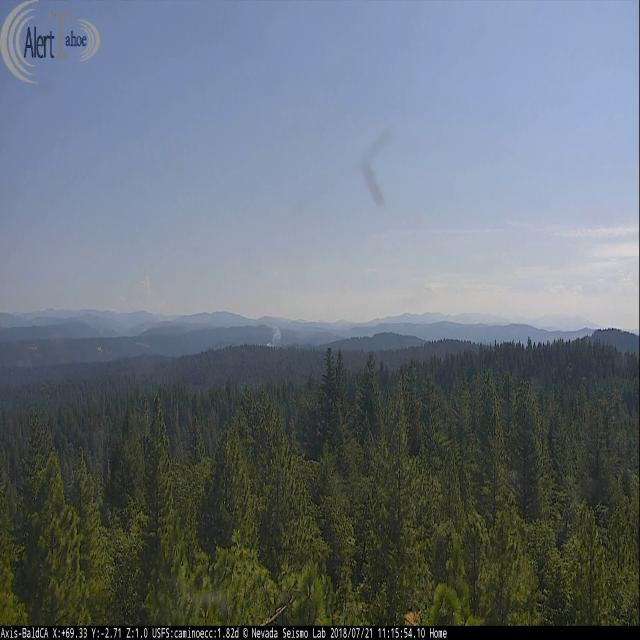smoke: (267, 326, 280, 348)
